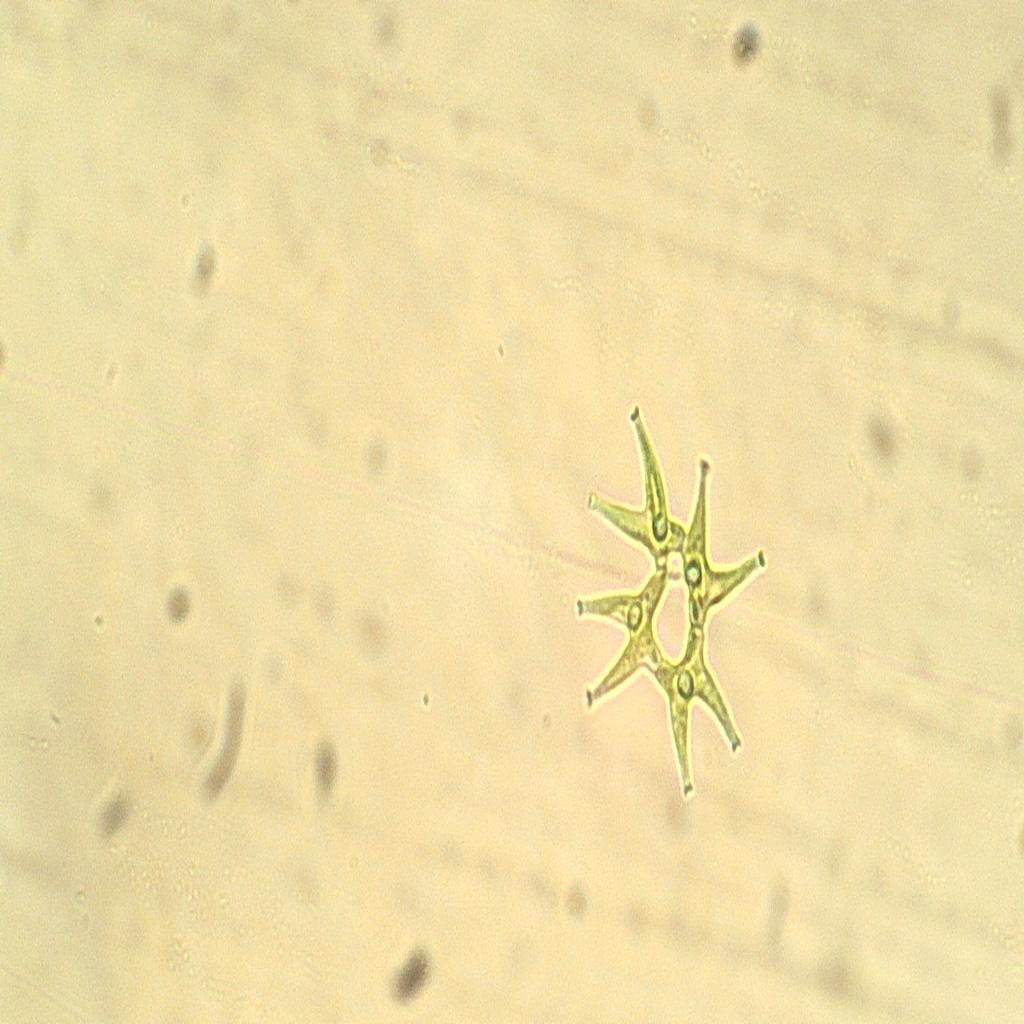Pediastrum_75FO: (565, 374, 772, 826)
